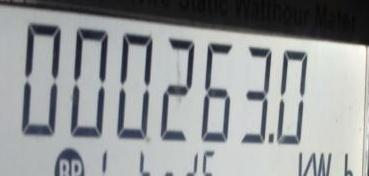.: (292, 149, 360, 176)
0: (266, 132, 276, 146)
1: (17, 25, 65, 137), (68, 28, 112, 138), (114, 33, 156, 142), (276, 49, 311, 143)
3: (158, 38, 197, 142)
4: (242, 47, 274, 146)
7: (201, 41, 236, 144)
